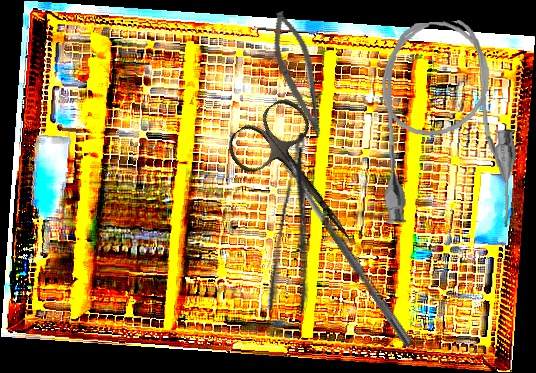Cannula: (371, 17, 522, 235)
Dressing Forceps: (263, 131, 337, 317)
Iris Scissors: (221, 91, 383, 268)
Micro Scissor: (260, 7, 340, 141)
Surgical Spoon: (283, 160, 415, 348)
